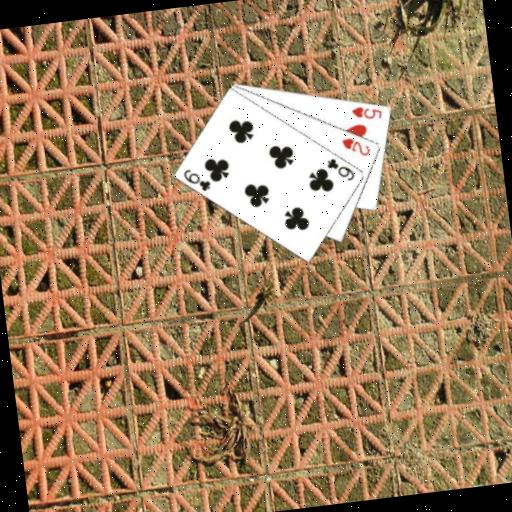2H: (338, 133, 373, 161)
5H: (348, 101, 385, 124)
6C: (323, 152, 357, 185), (180, 164, 213, 196)
